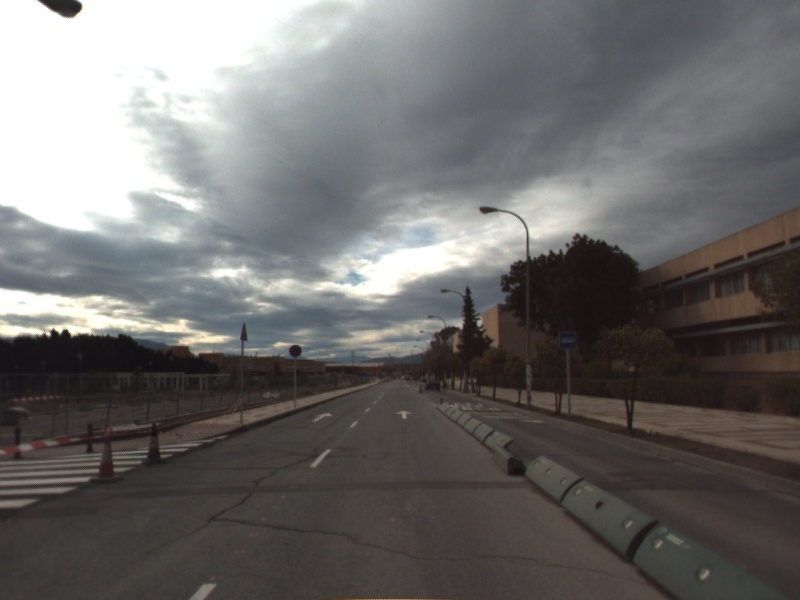STRAIGHT: (310, 410, 335, 424), (394, 408, 415, 421)
